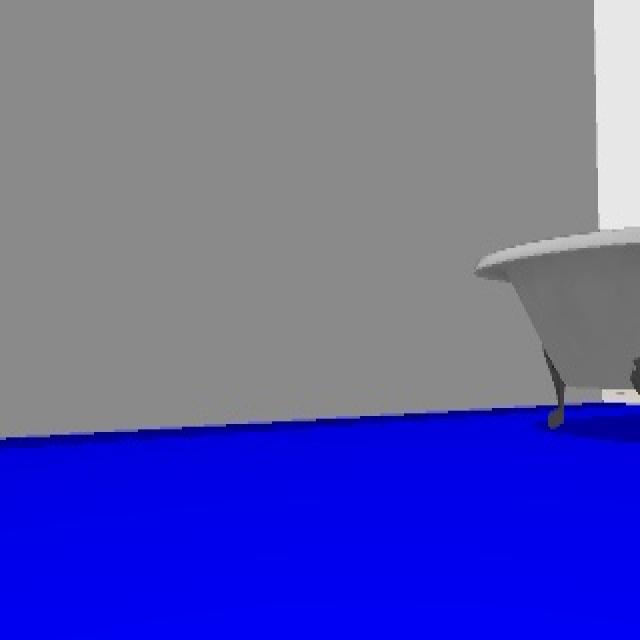bathtub: (472, 227, 640, 431)
